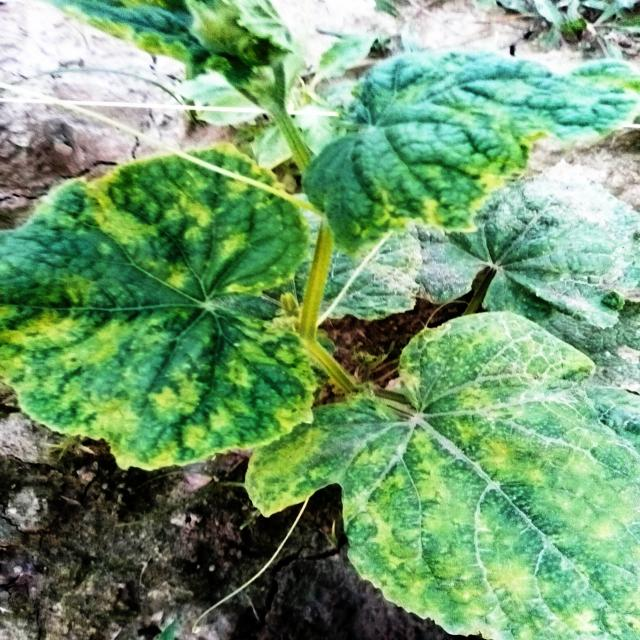Downy-Mildew: (245, 313, 640, 639), (1, 140, 320, 476), (303, 48, 638, 258)
